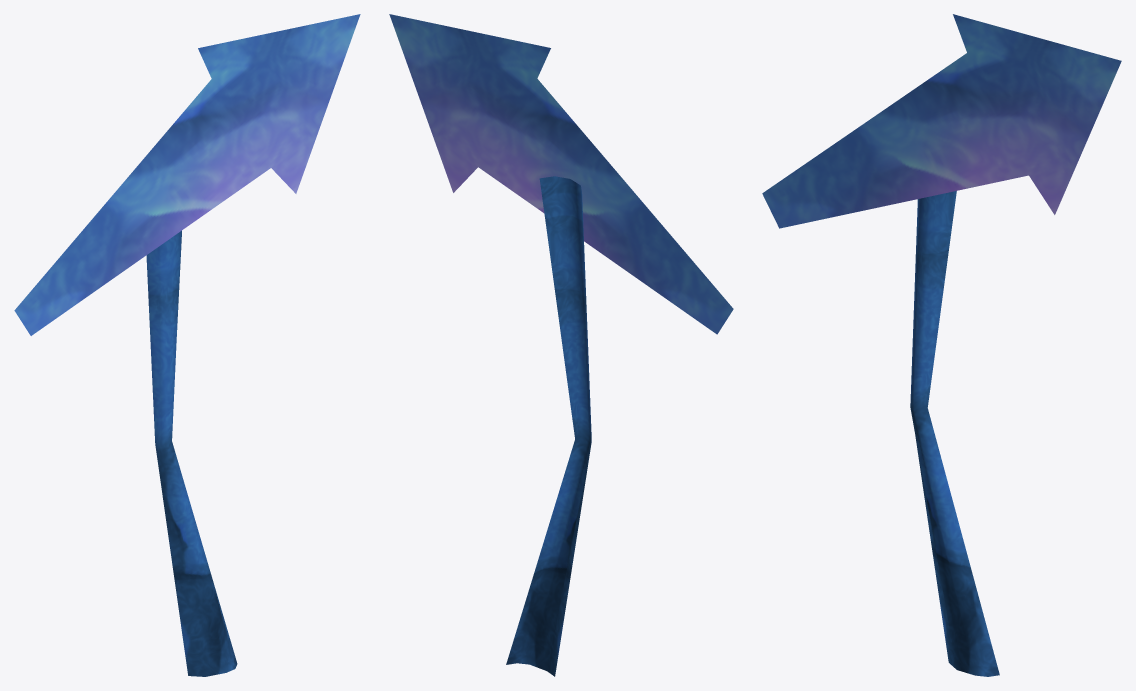
The model's file is cartel.fbx.
3 renders of one model, left to right at view 1: azimuth 30°, elevation 25°; view 2: azimuth 150°, elevation 25°; view 3: azimuth 330°, elevation 25°, orthographic. The views are drawn at different scales.
Parts seen in each view (by area): view 1: Plane.001; view 2: Plane.001; view 3: Plane.001.
Boxes of the visible parts, box(x1,y1,x2,y2) form: Plane.001: box(14, 14, 360, 676); Plane.001: box(389, 14, 733, 676); Plane.001: box(762, 14, 1121, 676).
Bounding box in the file's own units: 148 × 257 × 11.58.
